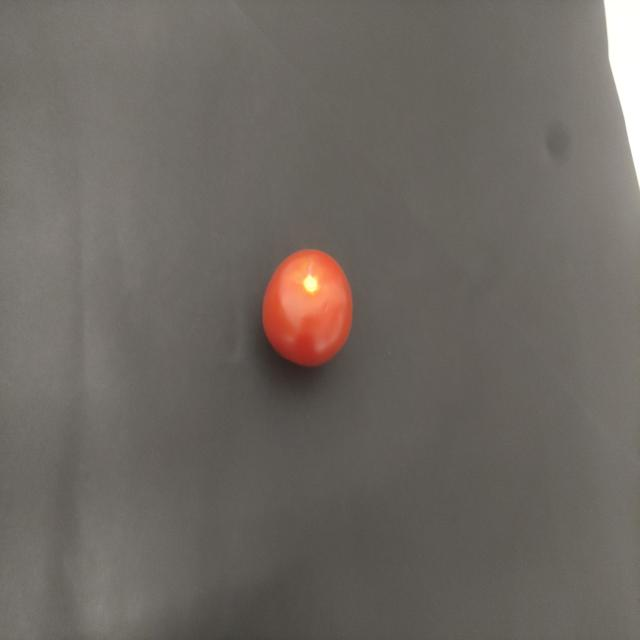kirmizi: (257, 236, 374, 382)
